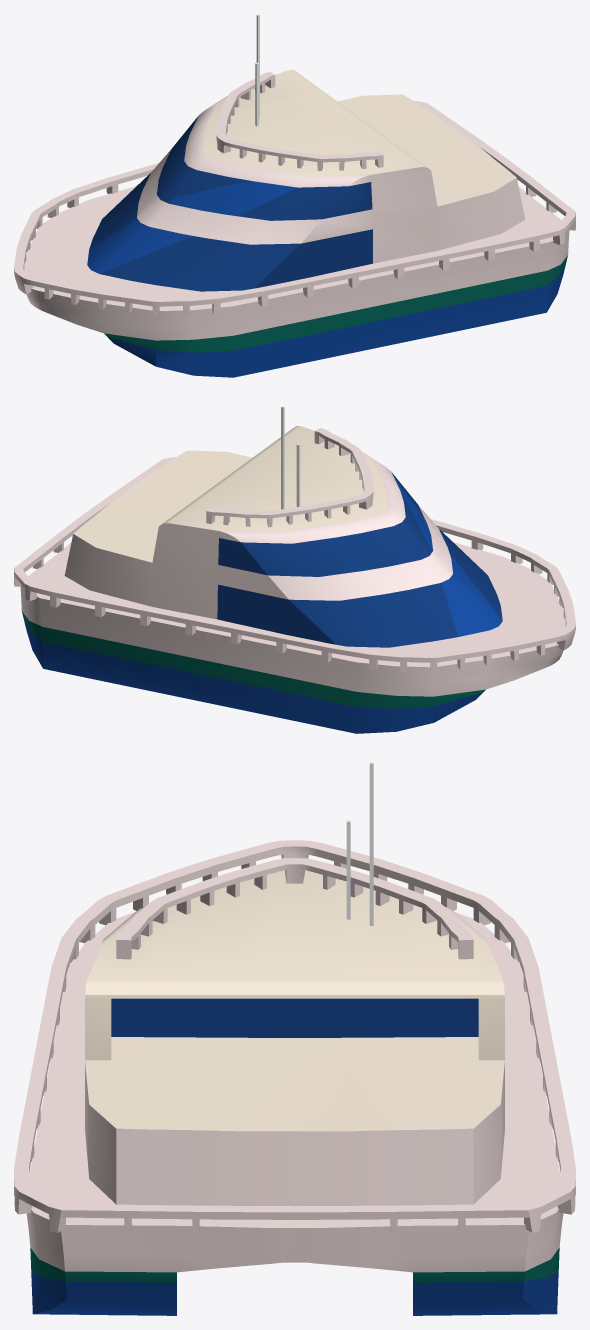
The model's file is ferry.fbx.
3 renders of one model, top to bottom at view 1: azimuth 30°, elevation 25°; view 2: azimuth 150°, elevation 25°; view 3: azimuth 270°, elevation 25°, orthographic. The views are drawn at different scales.
Parts seen in each view (by area): view 1: Cube.770; view 2: Cube.770; view 3: Cube.770.
Boxes of the visible parts, left/top/right/bottom form: Cube.770: left=14, top=14, right=575, bottom=377; Cube.770: left=14, top=406, right=575, bottom=733; Cube.770: left=14, top=762, right=575, bottom=1315.
Bounding box in the file's own units: 237 × 123 × 151.
Materials: 1 (1 with a texture image).
